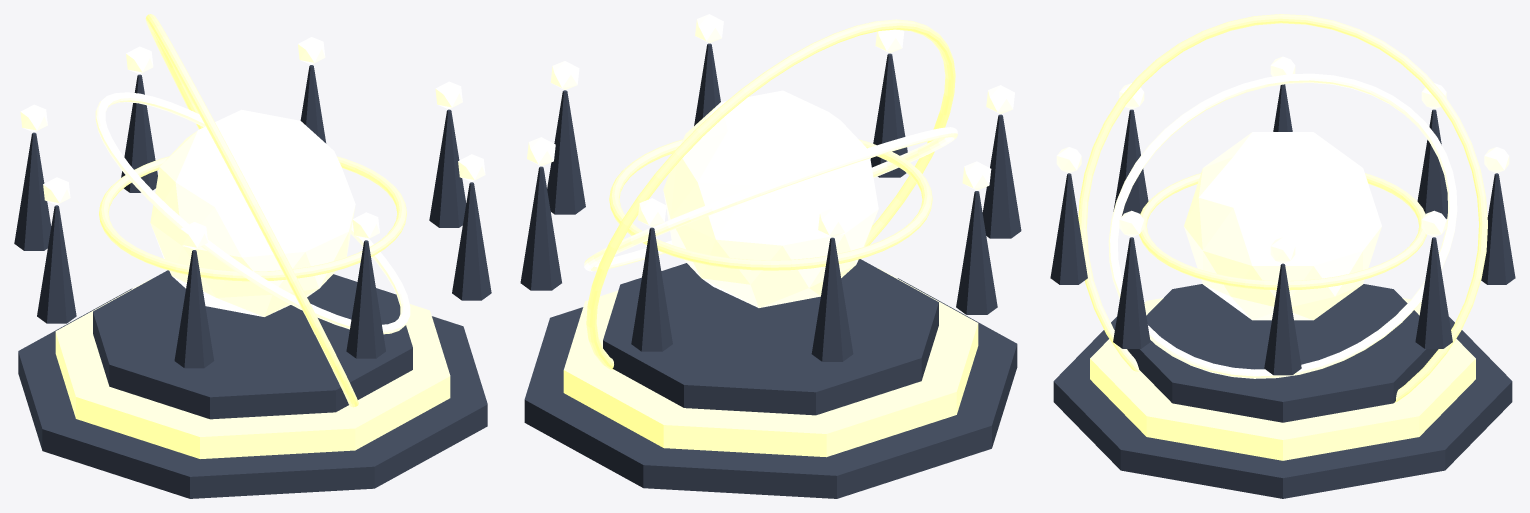
Rendered from gpu-blender-v22.glb.
3 views of the same model, side by side, from view 1: azimuth 30°, elevation 25°; view 2: azimuth 150°, elevation 25°; view 3: azimuth 270°, elevation 25° (orthographic). The views are drawn at different scales.
Visible parts, largest first — view 1: Cylinder.002, SovereignCore_agent-mock-twin, Cylinder, Cylinder.001, Torus.001, Torus.002, Torus, Cone.005, Cone.007, Cone.004, Cone.006, Cone (+11 smaller); view 2: Cylinder.002, SovereignCore_agent-mock-twin, Cylinder, Cylinder.001, Torus.002, Torus.001, Torus, Cone.001, Cone.003, Cone.002, Cone.004, Cone (+11 smaller); view 3: SovereignCore_agent-mock-twin, Cylinder.002, Cylinder, Cylinder.001, Torus.002, Torus.001, Torus, Cone, Cone.001, Cone.007, Cone.006, Cone.002 (+8 smaller).
Part boxes in pixels (x1,y1,x2,y2): Cylinder.002: (93,270,412,419); SovereignCore_agent-mock-twin: (150,109,355,316); Cylinder: (18,288,487,498); Cylinder.001: (55,278,450,458); Torus.001: (95,92,410,334); Torus.002: (145,14,358,407); Torus: (99,156,406,281); Cone.005: (174,250,214,368); Cone.007: (452,182,491,300); Cone.004: (37,205,76,323); Cone.006: (346,240,385,358); Cone: (429,109,466,227); Cylinder.002: (603,259,938,415); SovereignCore_agent-mock-twin: (663,90,878,307); Cylinder: (524,278,1017,498); Cylinder.001: (563,268,978,457); Torus.002: (586,19,955,369); Torus.001: (584,127,957,271); Torus: (609,139,932,270); Cone.001: (520,166,561,290); Cone.003: (811,237,853,361); Cone.002: (631,227,672,351); Cone.004: (956,191,997,314); Cone: (547,90,585,214); SovereignCore_agent-mock-twin: (1184,132,1381,320); Cylinder.002: (1127,284,1438,422); Cylinder: (1053,317,1512,498); Cylinder.001: (1090,298,1475,460); Torus.002: (1078,14,1487,402); Torus.001: (1108,73,1457,378); Torus: (1139,173,1426,290); Cone: (1264,263,1301,375); Cone.001: (1415,237,1452,348); Cone.007: (1113,237,1150,348); Cone.006: (1050,173,1087,284); Cone.002: (1481,173,1515,284).
Size of the model in its own units: 4.41 by 3.72 by 4.46.
